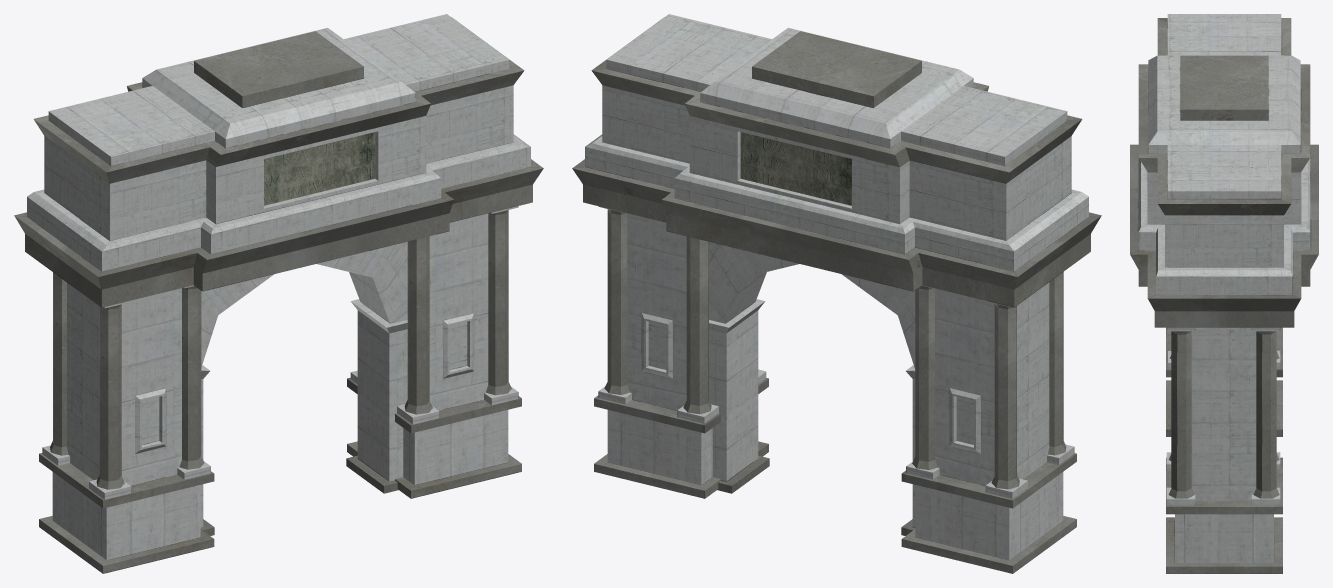
The model's file is Arch.glb.
3 views of the same model, side by side, from view 1: azimuth 30°, elevation 25°; view 2: azimuth 150°, elevation 25°; view 3: azimuth 270°, elevation 25° (orthographic). The views are drawn at different scales.
Visible parts, largest first — view 1: Arch.001; view 2: Arch.001; view 3: Arch.001.
Boxes of the visible parts, x1=… form: Arch.001: x1=14, y1=14, x2=543, y2=573; Arch.001: x1=572, y1=14, x2=1101, y2=573; Arch.001: x1=1130, y1=14, x2=1318, y2=573.
Bounding box in the file's own units: 5.62 × 5.27 × 2.26.
Materials: 1 (1 with a texture image).
